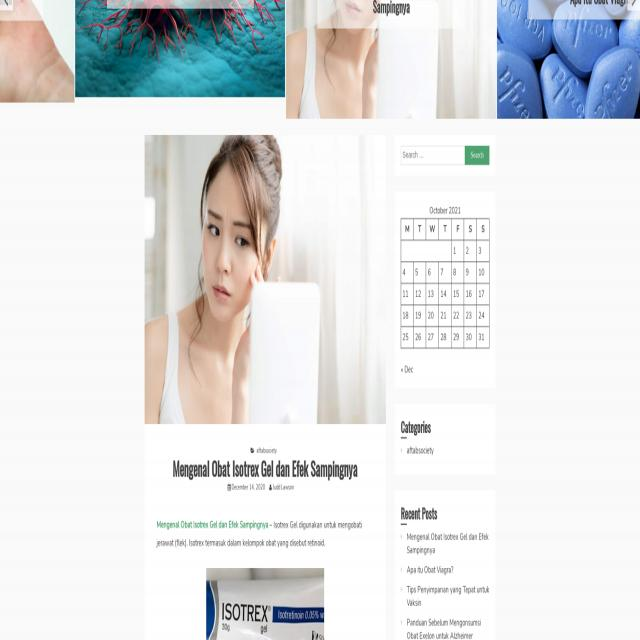button: (144, 134, 386, 424), (286, 0, 497, 117), (76, 0, 285, 97), (496, 0, 640, 118), (206, 567, 325, 640), (0, 0, 75, 104), (465, 146, 489, 166), (463, 262, 477, 283), (451, 240, 464, 262), (401, 283, 414, 305), (451, 283, 464, 305), (426, 283, 439, 305), (401, 326, 414, 348), (476, 326, 489, 348), (451, 326, 464, 348), (464, 240, 477, 261), (401, 262, 414, 283), (451, 262, 464, 283), (426, 262, 439, 283), (401, 305, 414, 326), (439, 262, 451, 284), (439, 283, 451, 305), (414, 283, 426, 305), (477, 283, 489, 305), (414, 326, 426, 348), (426, 326, 438, 348), (439, 326, 451, 348), (464, 326, 476, 348), (476, 262, 489, 282), (451, 306, 464, 326), (464, 306, 477, 326), (477, 240, 489, 261), (439, 305, 451, 326), (426, 305, 438, 326), (414, 262, 426, 282), (464, 284, 476, 304), (414, 306, 426, 326), (477, 306, 489, 326), (0, 0, 13, 11)
field: (400, 146, 490, 166)
